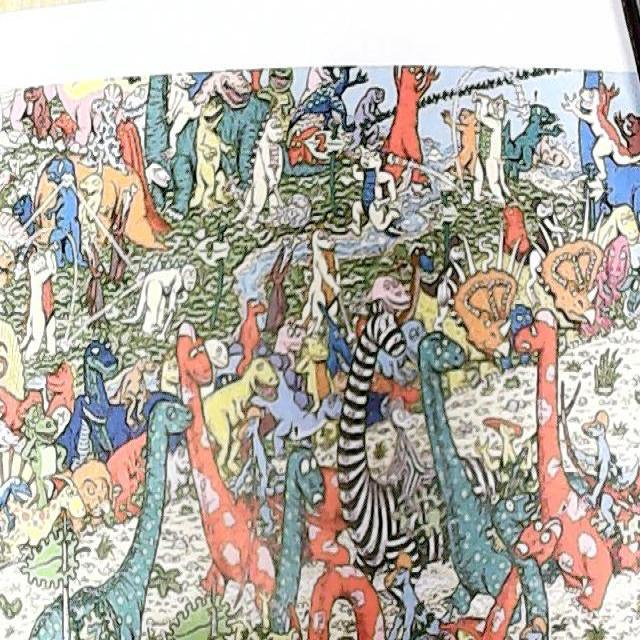waldo: (392, 258, 408, 285)
